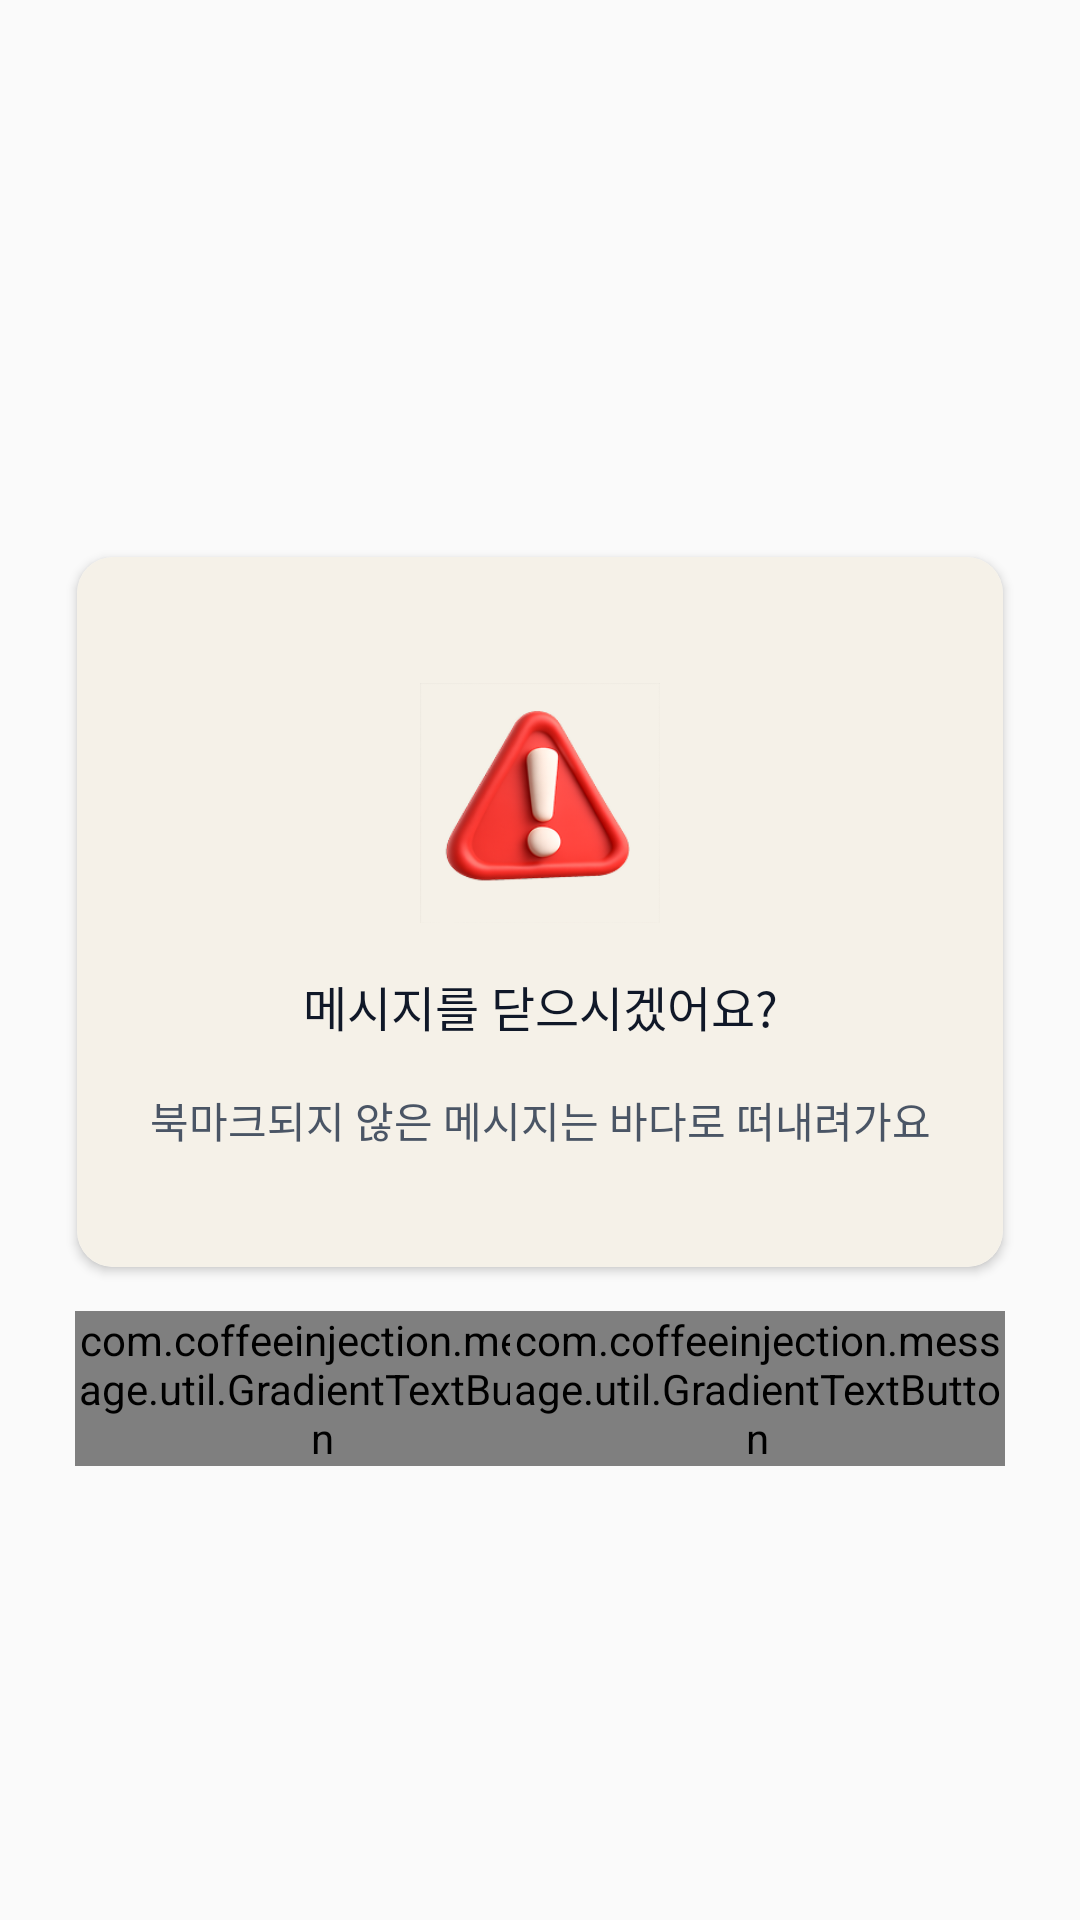

Named icons in this screenshot (1080px×1920px) and their centers, point (x, y):
warning: point (538, 796)
